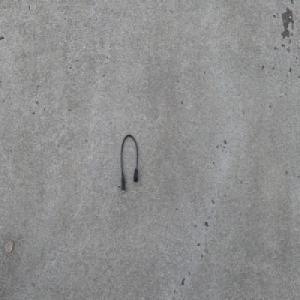Wire: (120, 132, 138, 193)
